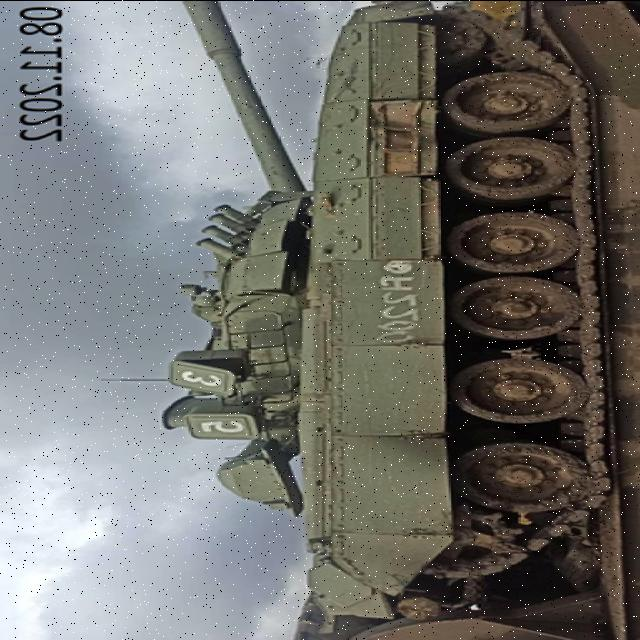TANK: (140, 0, 602, 621)
